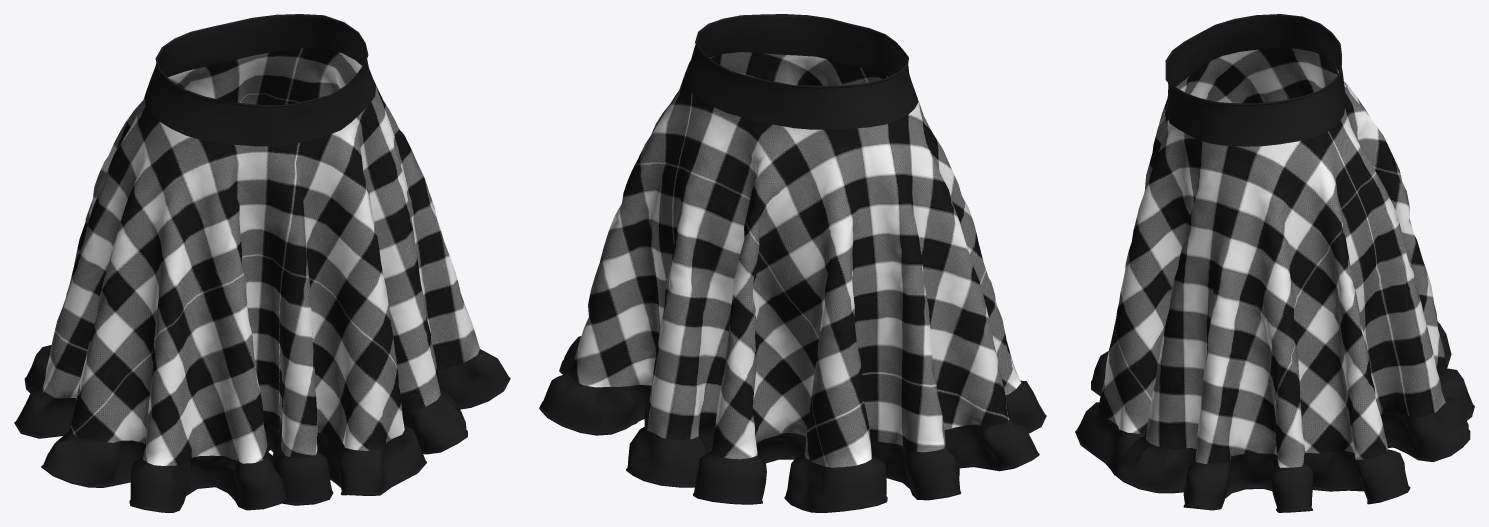
Rendered from Robe1-1.glb.
3 views of the same model, side by side, from view 1: azimuth 30°, elevation 25°; view 2: azimuth 150°, elevation 25°; view 3: azimuth 270°, elevation 25° (orthographic). The views are drawn at different scales.
Visible parts, largest first — view 1: Skirt; view 2: Skirt; view 3: Skirt.
Boxes of the visible parts, left/top/right/bottom form: Skirt: left=14, top=14, right=510, bottom=512; Skirt: left=539, top=14, right=1046, bottom=512; Skirt: left=1075, top=14, right=1474, bottom=512.
Size of the model in its own units: 0.8204 by 0.6952 by 0.6475.
Materials: 2 (1 with a texture image).
